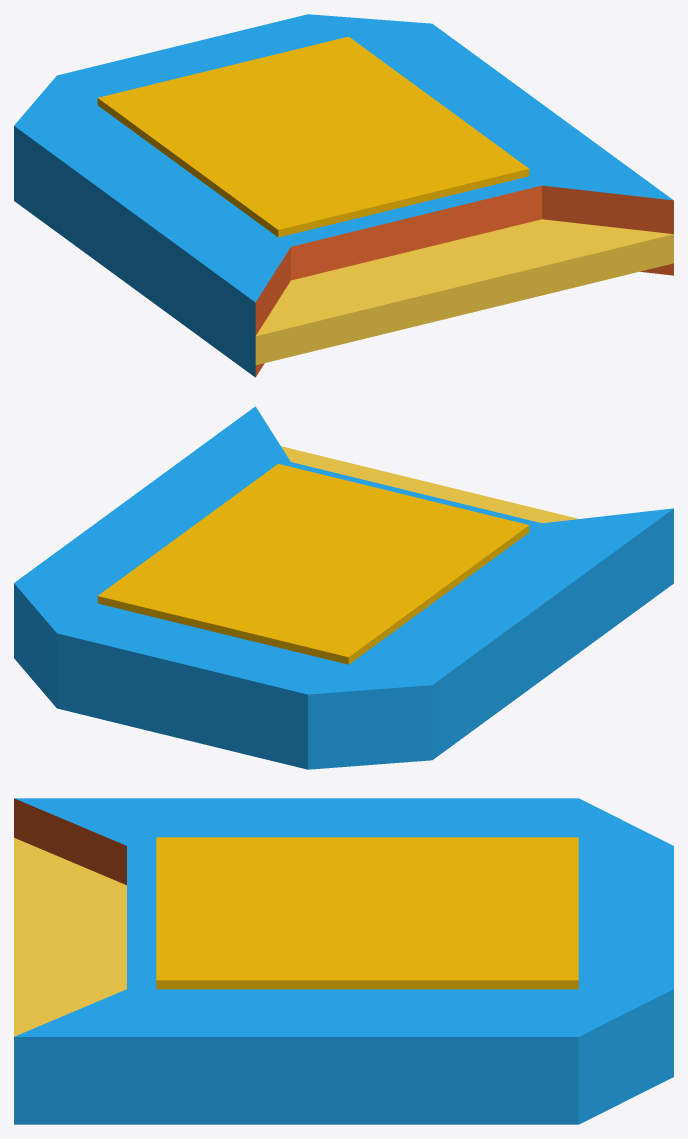
Rendered from Upgrade_Food_02.fbx.
3 views of the same model, one above another, from view 1: azimuth 30°, elevation 25°; view 2: azimuth 150°, elevation 25°; view 3: azimuth 270°, elevation 25° (orthographic). The views are drawn at different scales.
Parts seen in each view (by area): view 1: Cube.001; view 2: Cube.001; view 3: Cube.001.
Part boxes in pixels (x1=…): Cube.001: x1=14, y1=14, x2=673, y2=377; Cube.001: x1=14, y1=406, x2=673, y2=769; Cube.001: x1=14, y1=798, x2=673, y2=1124.
Bounding box in the file's own units: 86.17 × 17.74 × 101.
